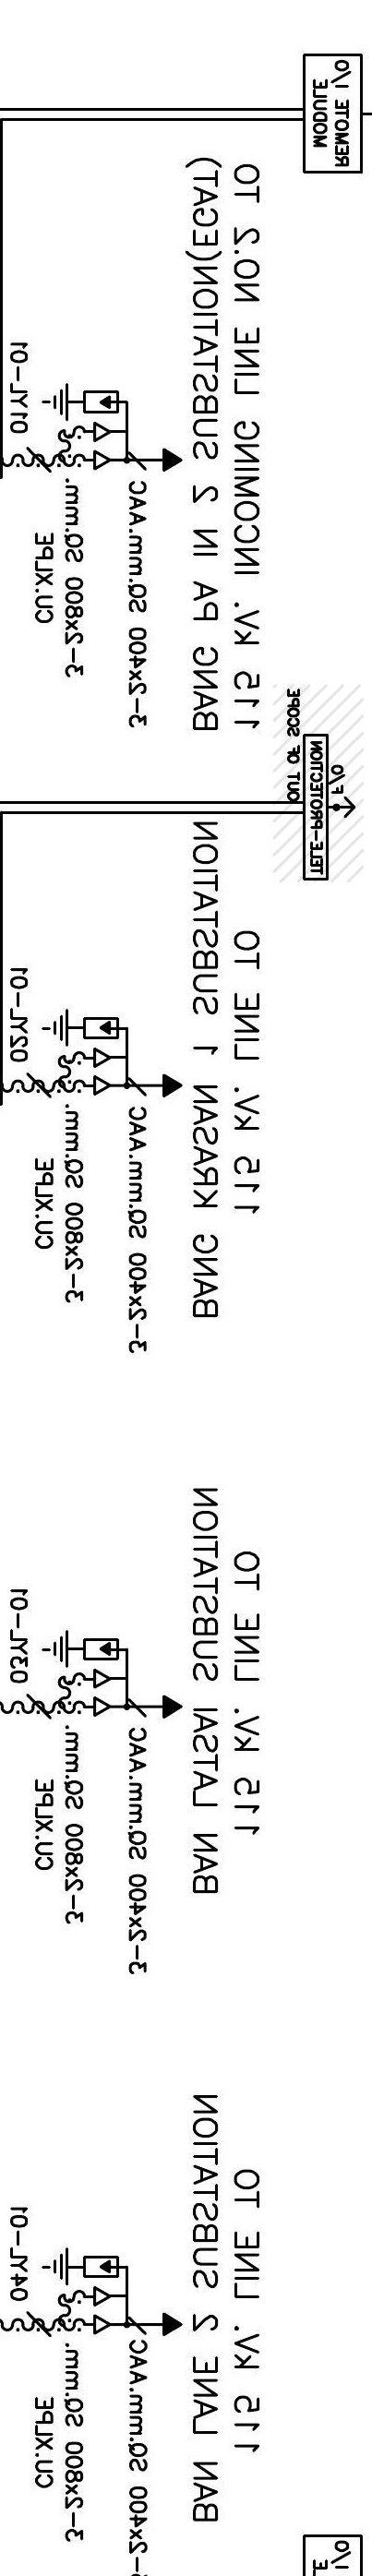115_la: (41, 2247, 120, 2287), (41, 1630, 120, 1669), (41, 1009, 120, 1048), (41, 383, 120, 422)
remote_io_module: (303, 53, 364, 174)
tele_protection: (301, 733, 329, 881)
terminator_double: (92, 2285, 130, 2336), (92, 1667, 130, 1718), (92, 421, 130, 472), (92, 1046, 128, 1097)
